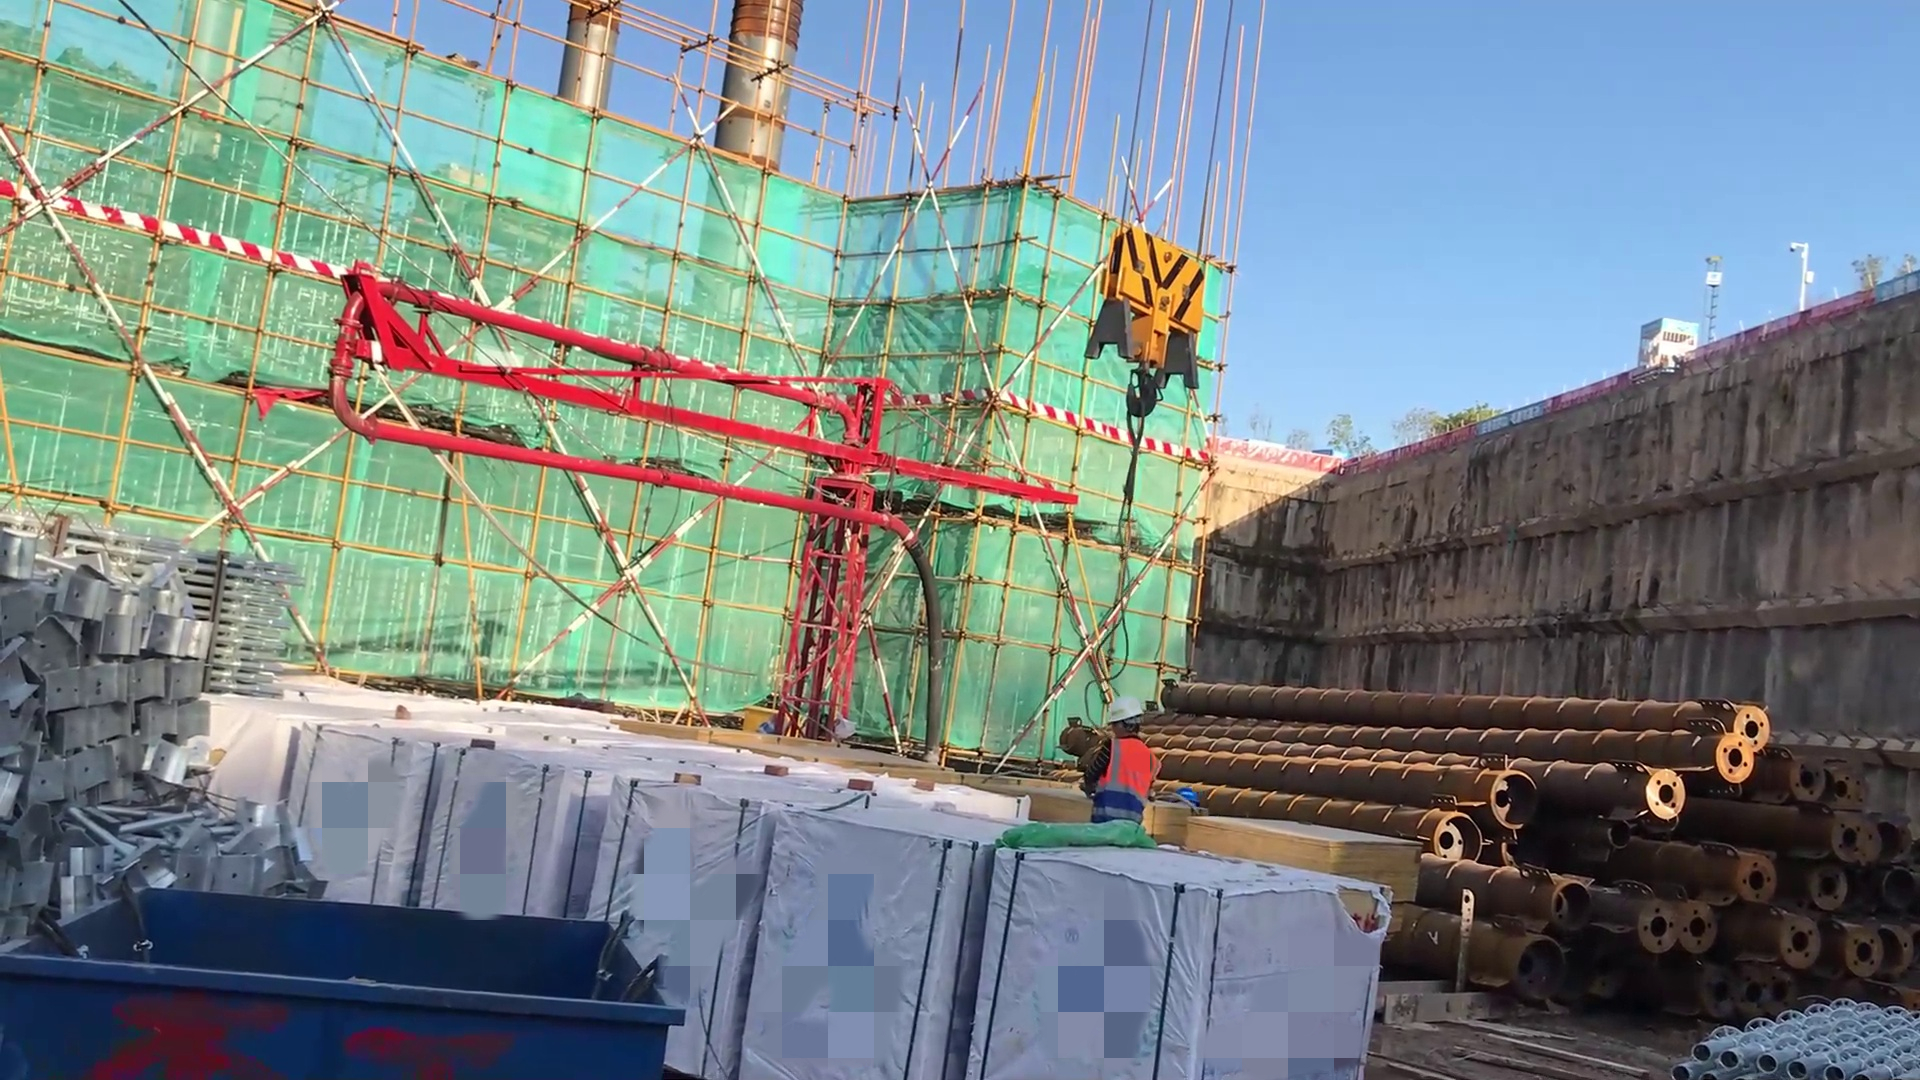board: (1173, 809, 1416, 915), (1139, 803, 1194, 842)
ebox: (719, 695, 830, 749)
helmet: (1098, 697, 1150, 744), (1175, 775, 1207, 823)
hook: (1073, 205, 1226, 466)
hopper: (1, 869, 666, 1076)
person: (1070, 697, 1166, 856)
scaffold: (143, 530, 311, 706), (1675, 985, 1920, 1078)
slogan: (1475, 387, 1561, 439), (1854, 265, 1920, 302)
vest: (1084, 734, 1176, 839)
